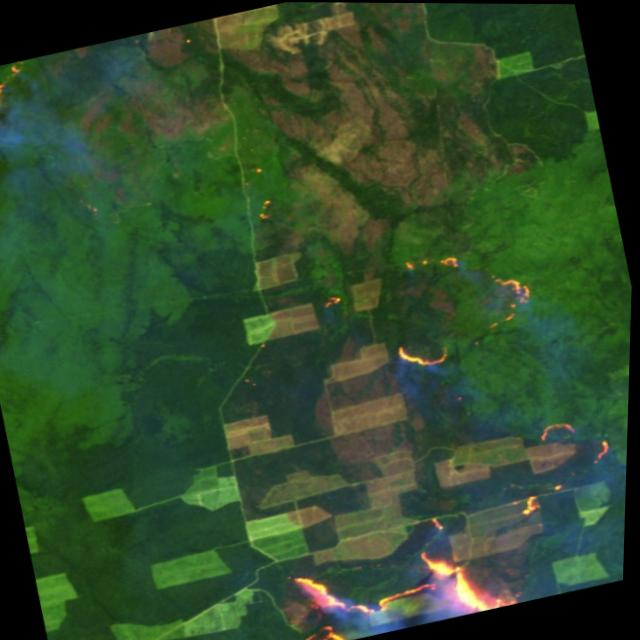fire: (252, 520, 541, 640), (370, 232, 549, 377), (504, 410, 628, 518), (0, 59, 40, 137)
